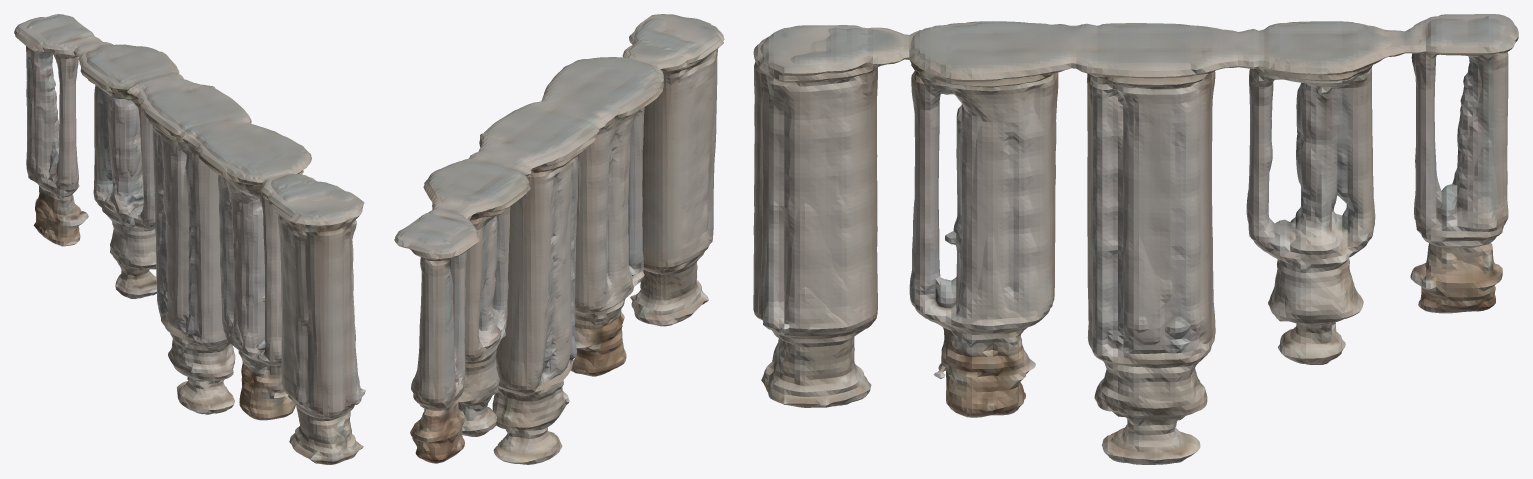
The model's file is jars.glb.
3 renders of one model, left to right at view 1: azimuth 30°, elevation 25°; view 2: azimuth 150°, elevation 25°; view 3: azimuth 270°, elevation 25°, orthographic. The views are drawn at different scales.
Bounding box in the file's own units: 0.2038 × 0.5857 × 1.
